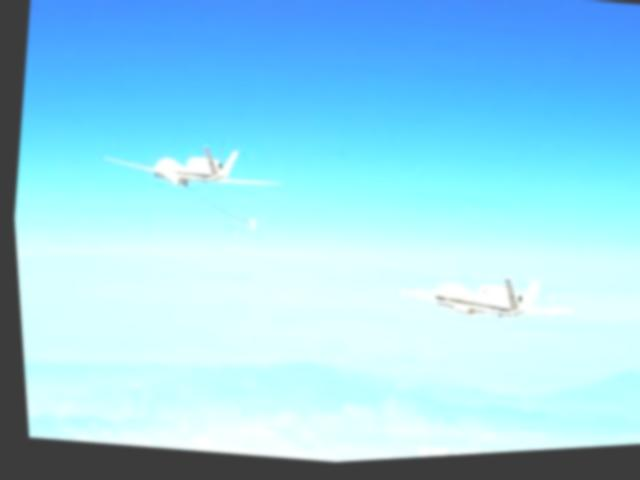uav: (390, 261, 578, 342), (96, 129, 283, 201)
